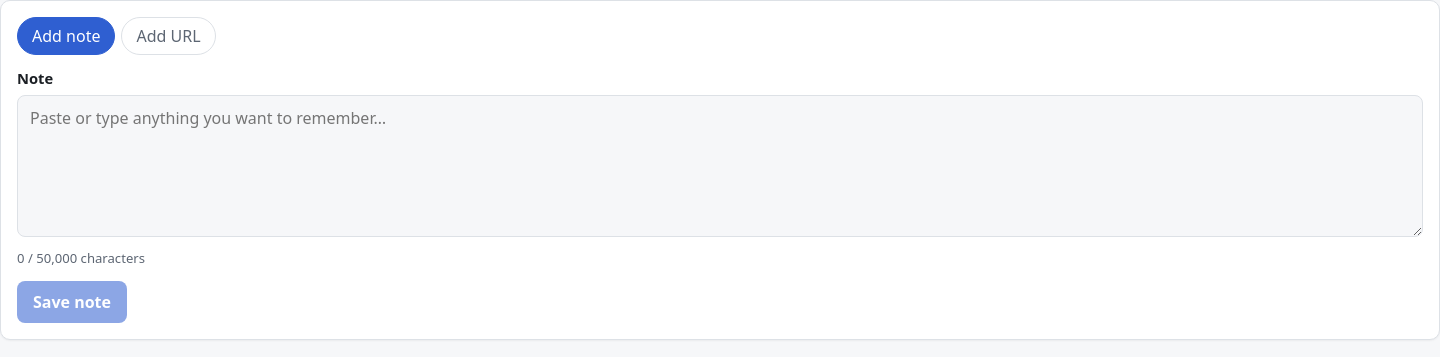
AddContentForm › submits a note, disables the button while saving, then clears and confirms
Check: the button "Save note" is disabled, box x1=17 y1=281 x2=127 y2=323
Type "The wifi password is pelican42" into the text box labelled "Note". click: (720, 166)
box: x1=17 y1=95 x2=1423 y2=237
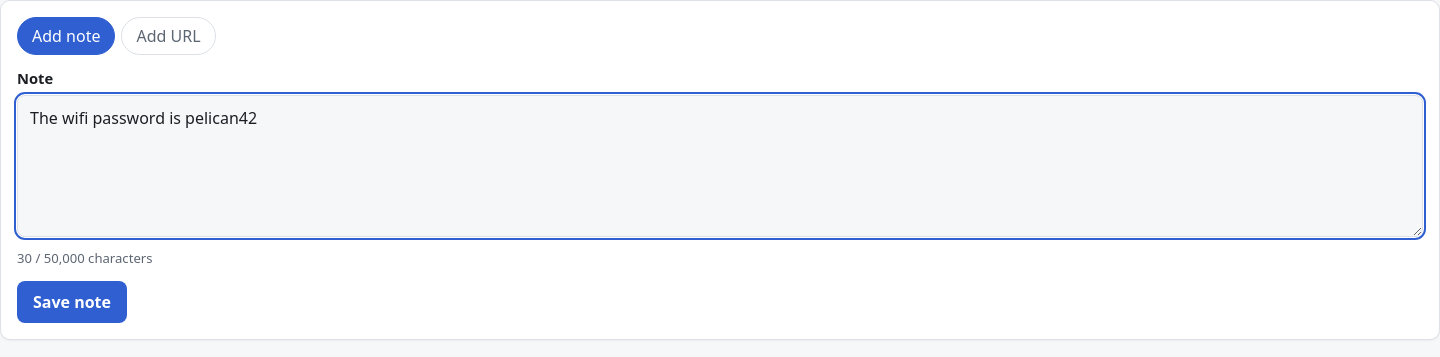
Check: the button "Save note" is enabled
Click the button "Save note". click: (72, 302)
box: x1=17 y1=281 x2=127 y2=323
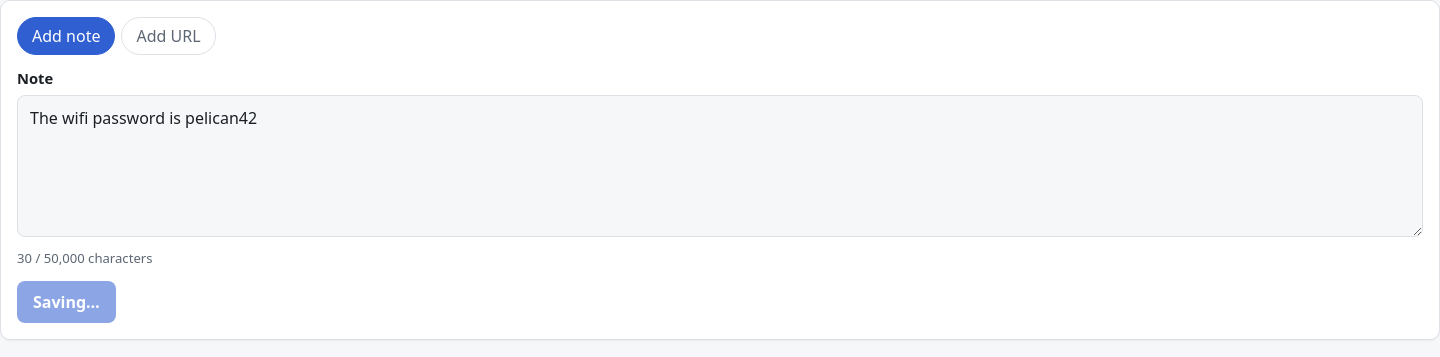
Check: the button "Saving…" is disabled
Click the button "Saving…". click: (66, 302)
box: x1=17 y1=281 x2=116 y2=323
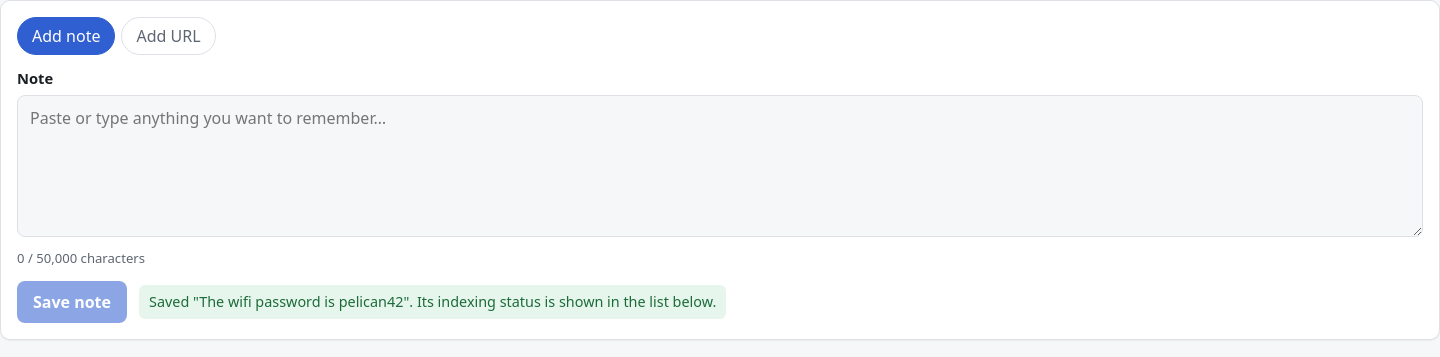
Check: the message does not show "Indexing in the background", box x1=139 y1=285 x2=726 y2=319
Check: the message shows "Saved \"The wifi password is pelican42\"", box x1=149 y1=292 x2=716 y2=311
Check: the text box labelled "Note" is empty, box x1=17 y1=95 x2=1423 y2=237
